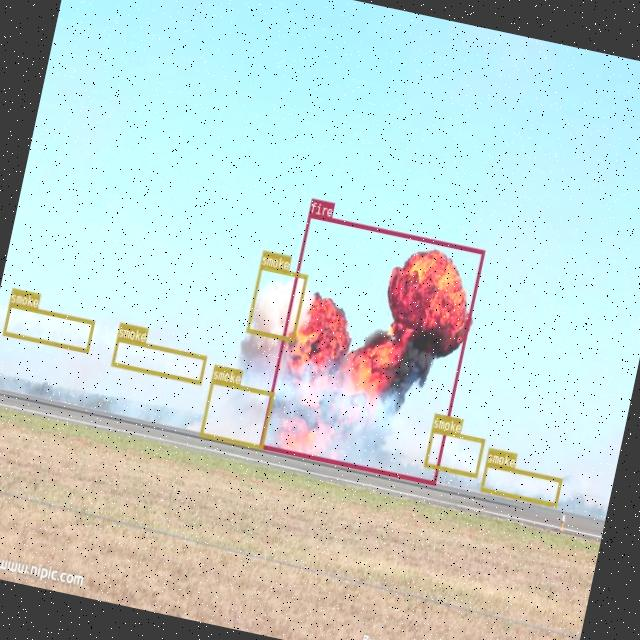fire: (258, 212, 484, 484)
smoke: (198, 378, 274, 448), (245, 264, 307, 342), (2, 302, 94, 352), (110, 336, 206, 383), (479, 461, 562, 506), (423, 426, 484, 476)
